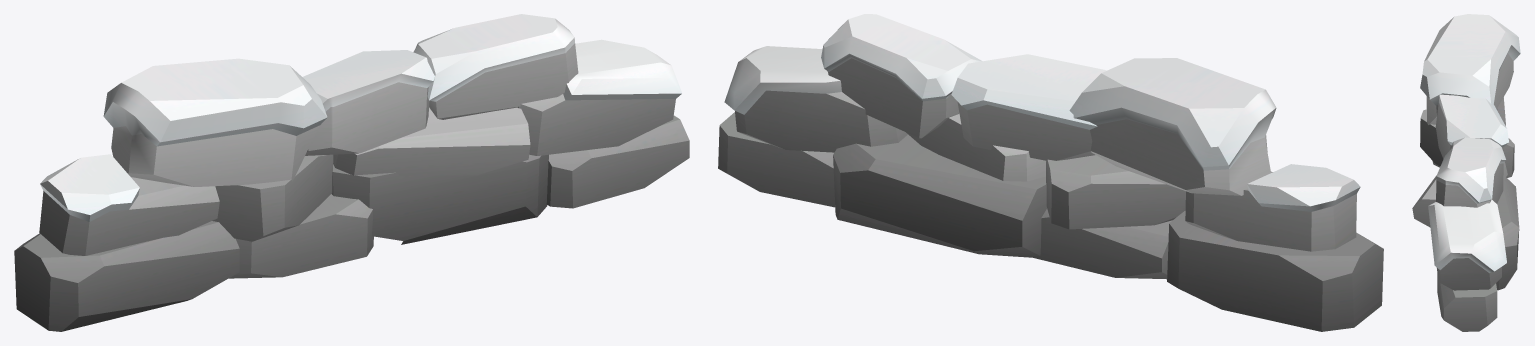
The picture shows the model from 3 angles, left to right: view 1: azimuth 30°, elevation 25°; view 2: azimuth 150°, elevation 25°; view 3: azimuth 270°, elevation 25°; orthographic projection. The views are drawn at different scales.
Visible parts, largest first — view 1: SnowyOldStoneWall; view 2: SnowyOldStoneWall; view 3: SnowyOldStoneWall.
Part boxes in pixels (left/top/right/bottom): SnowyOldStoneWall: left=14, top=14, right=689, bottom=331; SnowyOldStoneWall: left=718, top=14, right=1383, bottom=331; SnowyOldStoneWall: left=1412, top=14, right=1520, bottom=331.
Size of the model in its own units: 7.43 by 2.25 by 1.57.
1 material, 1 textured.
